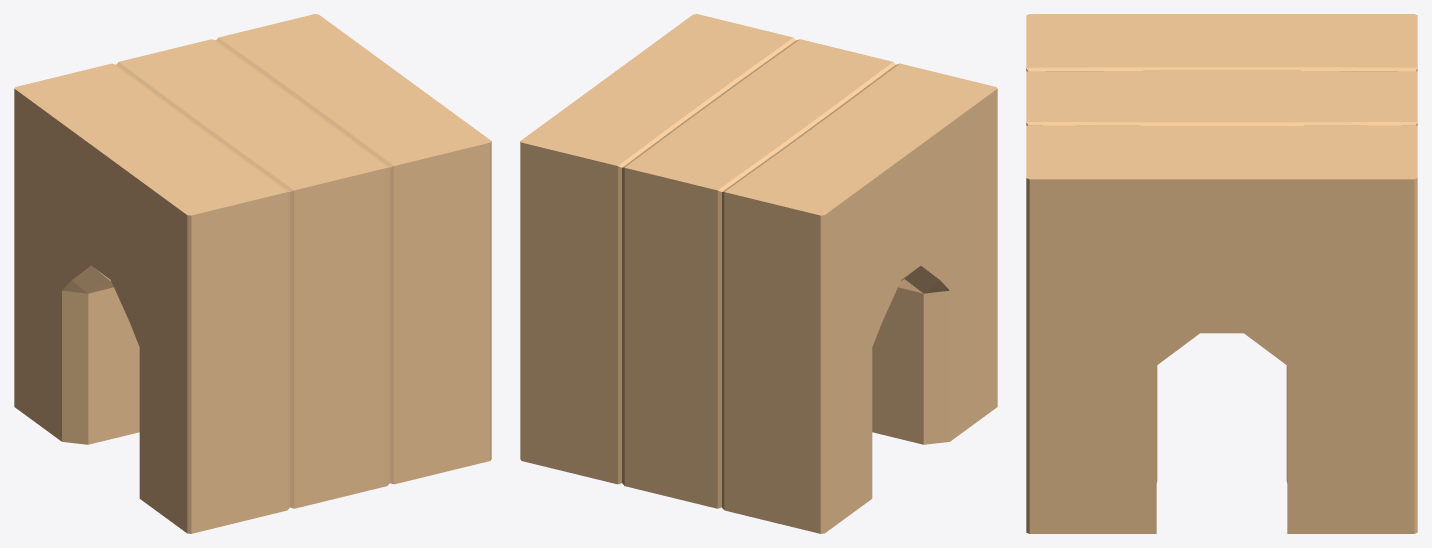
File: 3D_Entrance.FBX
The picture shows the model from 3 angles, left to right: view 1: azimuth 30°, elevation 25°; view 2: azimuth 150°, elevation 25°; view 3: azimuth 270°, elevation 25°; orthographic projection. The views are drawn at different scales.
Parts seen in each view (by area): view 1: 3D_Entrance; view 2: 3D_Entrance; view 3: 3D_Entrance.
Part boxes in pixels (<box>): 3D_Entrance: <box>14,14,491,533</box>; 3D_Entrance: <box>520,14,997,533</box>; 3D_Entrance: <box>1026,14,1417,533</box>.
Bounding box in the file's own units: 300 × 300 × 300.
Materials: 1 (1 with a texture image).
